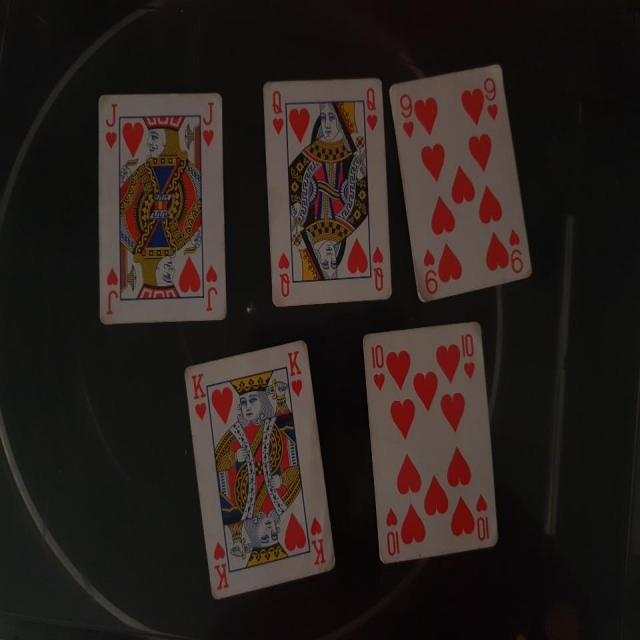10 Hearts: (357, 313, 504, 566)
9 Hearts: (390, 55, 543, 312)
J Hearts: (91, 83, 231, 340)
K Hearts: (178, 338, 340, 604)
Q Hearts: (261, 68, 393, 314)
